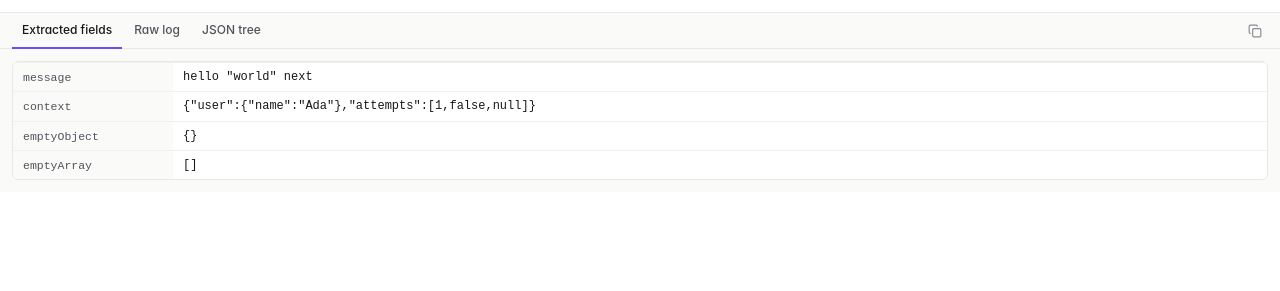
Test case: expanded log JSON tree › reports clipboard failure without claiming a successful copy
This screenshot has width=1280, height=291.
Click the button "JSON tree" at point(231, 31), box [192,13,271,49]
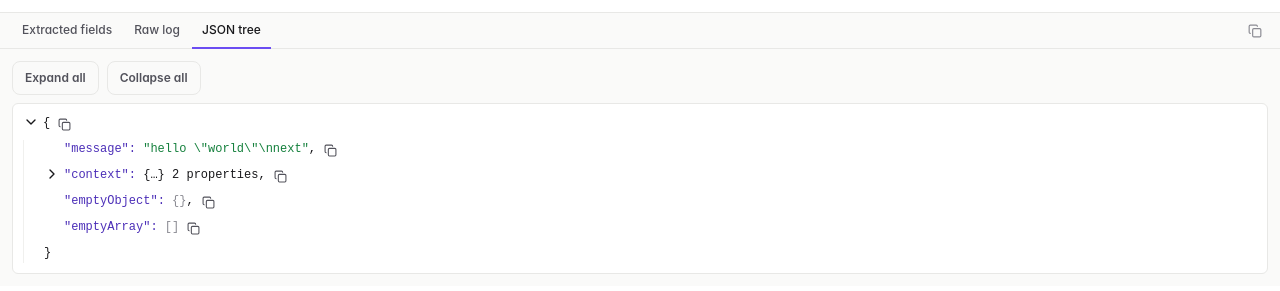
Click the button named "Copy JSON at $[\"message\"]" at point(331, 150), box [320,140,341,161]
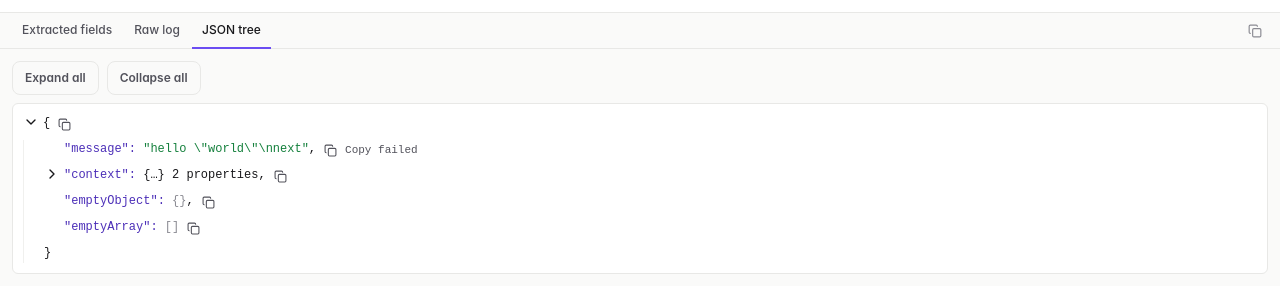
Result: the text "Copy failed" is shown at [345,142,418,159]
